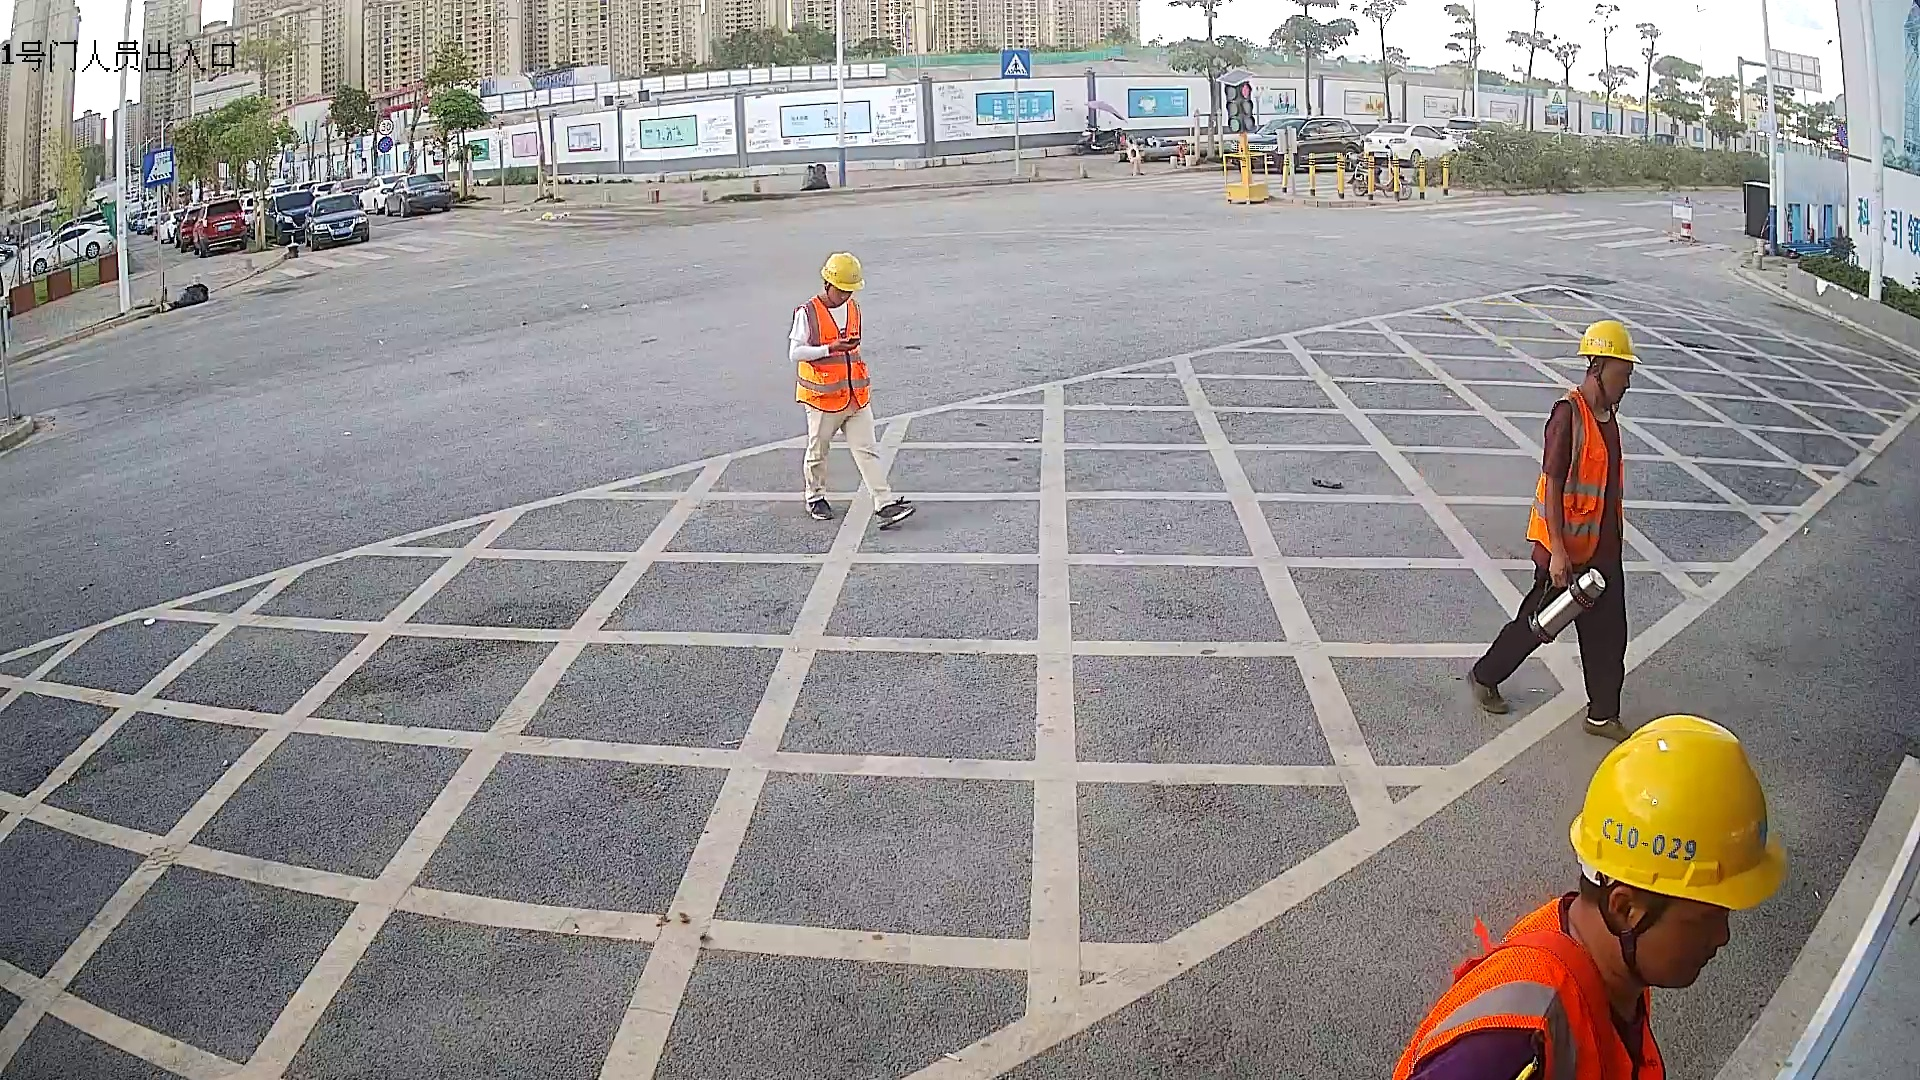person: (1461, 313, 1645, 743), (790, 245, 919, 535)
reflective_vest: (1382, 889, 1664, 1080), (1525, 385, 1611, 570), (791, 290, 871, 415)
safety_helmet: (1565, 710, 1788, 994), (1575, 314, 1641, 408), (817, 249, 864, 308)
